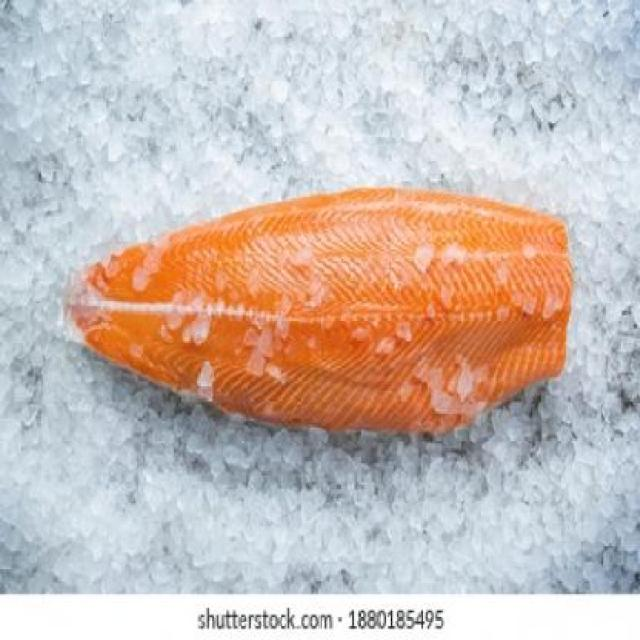salmon: (54, 178, 595, 476)
